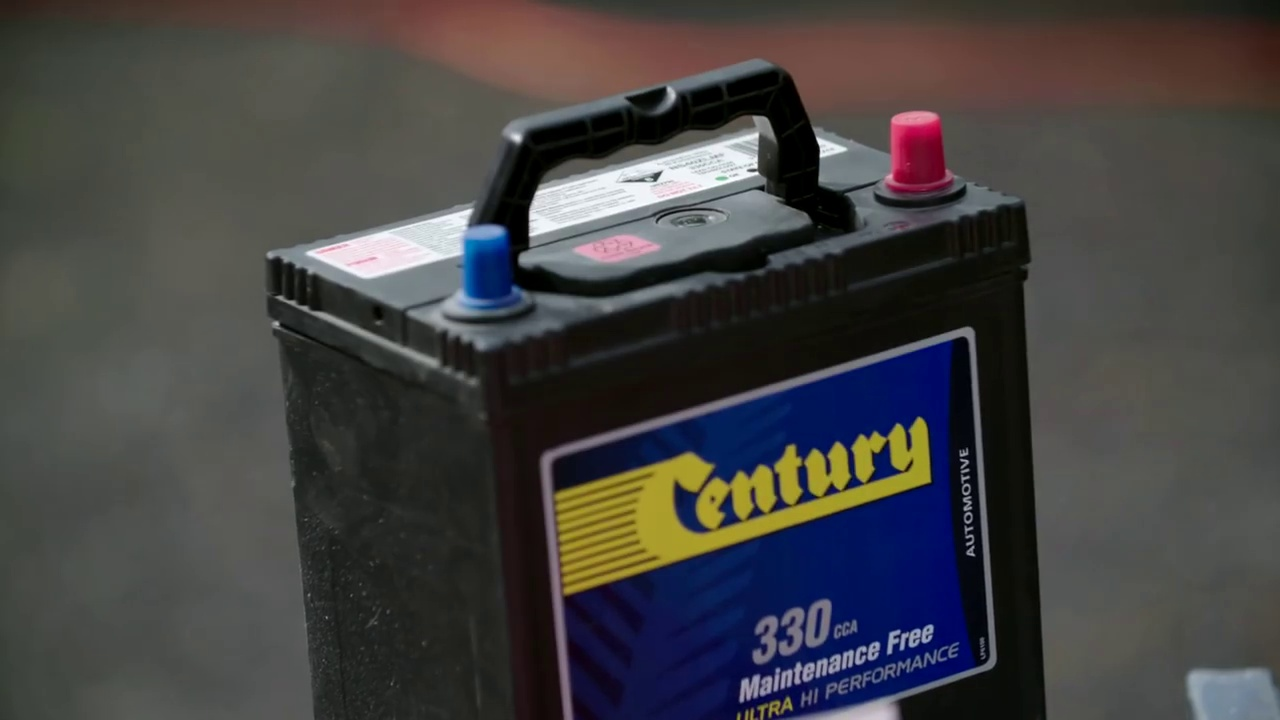battery: (236, 68, 1080, 339)
